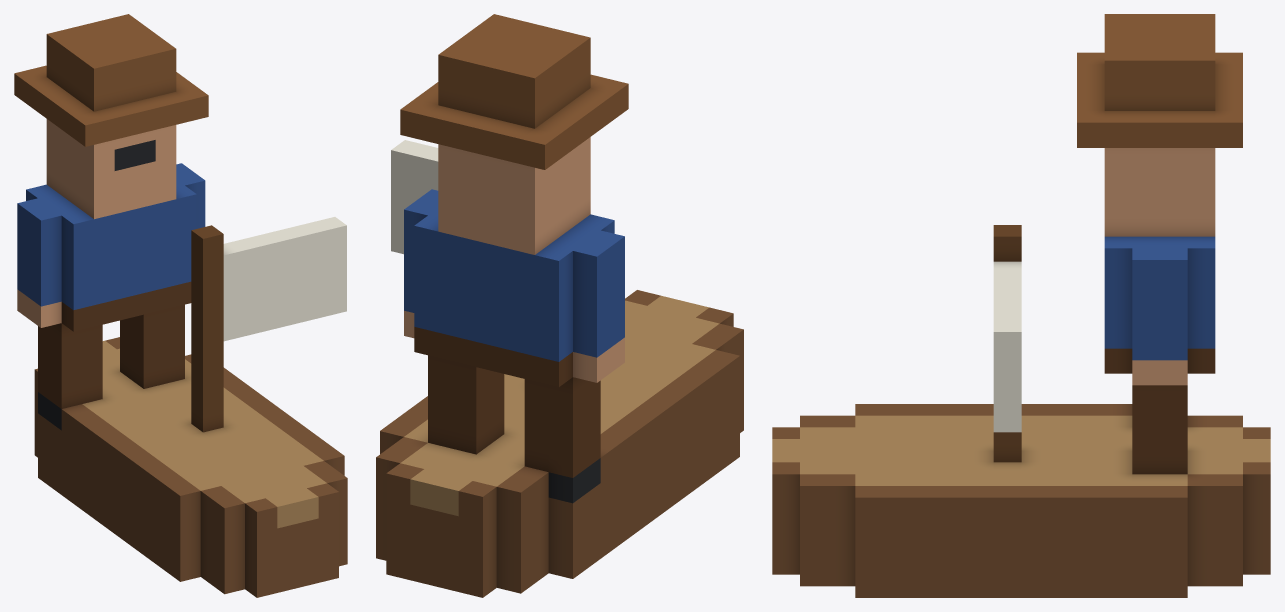
File: u_boat.glb
3 views of the same model, side by side, from view 1: azimuth 30°, elevation 25°; view 2: azimuth 150°, elevation 25°; view 3: azimuth 270°, elevation 25° (orthographic). The views are drawn at different scales.
Visible parts, largest first — view 1: u_boat_body; view 2: u_boat_body; view 3: u_boat_body.
Boxes of the visible parts, <box> form: u_boat_body: <box>14,14,347,597</box>; u_boat_body: <box>376,14,743,597</box>; u_boat_body: <box>772,14,1270,597</box>.
Size of the model in its own units: 0.75 by 1.25 by 1.12.
Materials: 1 (1 with a texture image).
